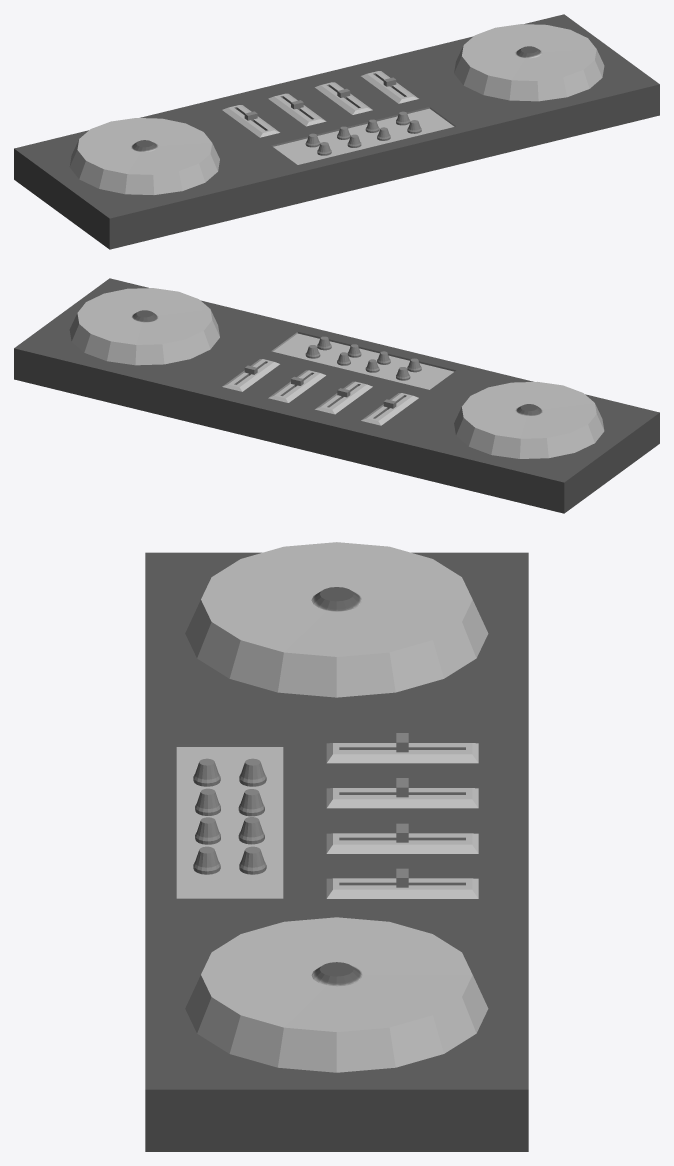
The model's file is Mesa DJ.FBX.
The picture shows the model from 3 angles, top to bottom: view 1: azimuth 30°, elevation 25°; view 2: azimuth 150°, elevation 25°; view 3: azimuth 270°, elevation 25°; orthographic projection. The views are drawn at different scales.
Visible parts, largest first — view 1: Rectangle002; view 2: Rectangle002; view 3: Rectangle002.
Boxes of the visible parts, <box> form: Rectangle002: <box>14,14,659,249</box>; Rectangle002: <box>14,278,659,513</box>; Rectangle002: <box>145,542,528,1151</box>.
Bounding box in the file's own units: 557 × 49.12 × 168.
